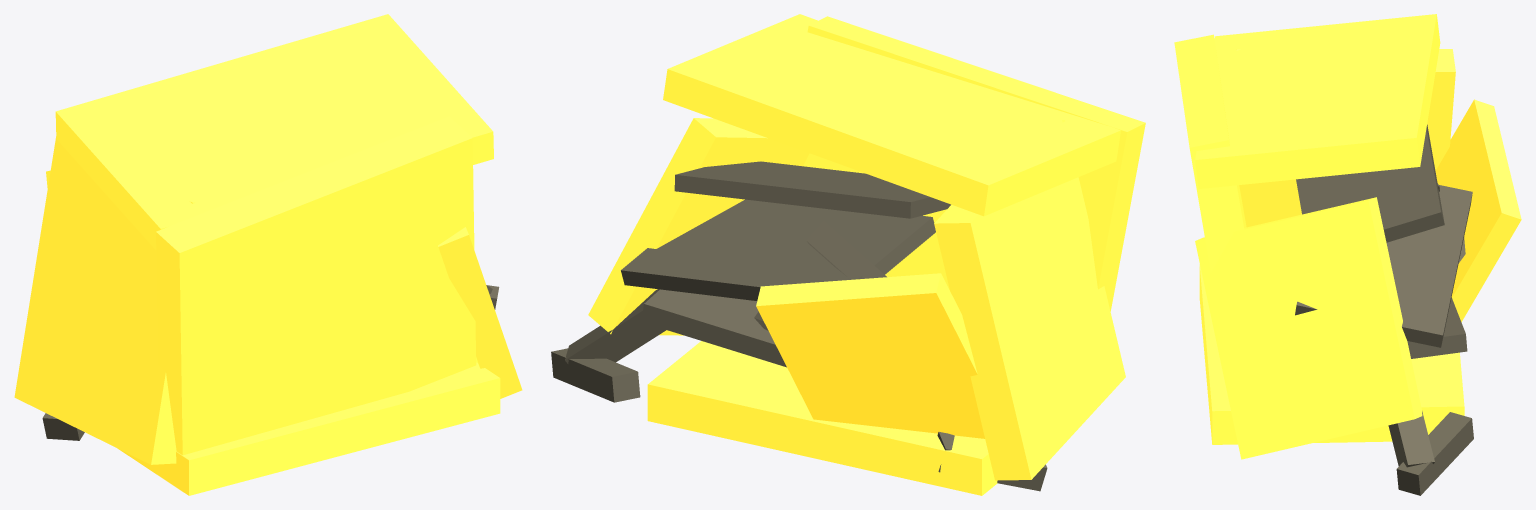
File: ENV_PROP_04_ServerDebris.glb
The picture shows the model from 3 angles, left to right: view 1: azimuth 30°, elevation 25°; view 2: azimuth 150°, elevation 25°; view 3: azimuth 270°, elevation 25°; orthographic projection. The views are drawn at different scales.
Visible parts, largest first — view 1: SM_ENV_PROP_04_ServerDebris; view 2: SM_ENV_PROP_04_ServerDebris; view 3: SM_ENV_PROP_04_ServerDebris.
Part boxes in pixels (x1,y1,x2,y2): SM_ENV_PROP_04_ServerDebris: [14, 14, 522, 495]; SM_ENV_PROP_04_ServerDebris: [551, 14, 1145, 495]; SM_ENV_PROP_04_ServerDebris: [1174, 14, 1521, 495].
Bounding box in the file's own units: 1.5 × 1 × 1.
